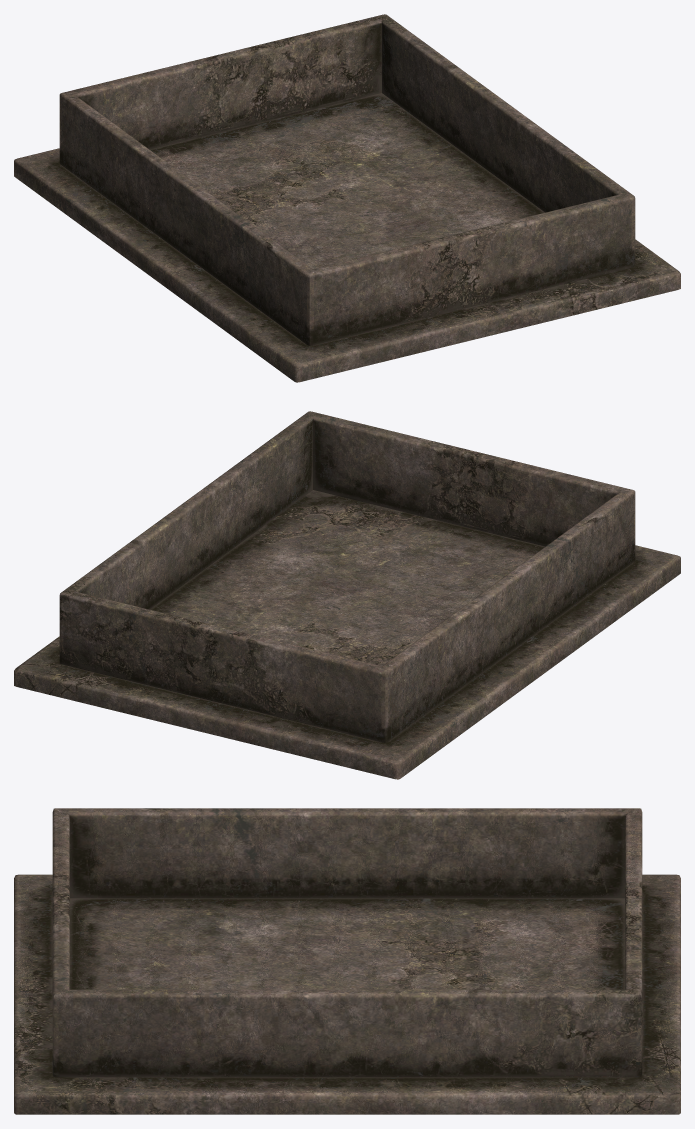
Rendered from SM_tombstone_16.fbx.
3 renders of one model, top to bottom at view 1: azimuth 30°, elevation 25°; view 2: azimuth 150°, elevation 25°; view 3: azimuth 270°, elevation 25°, orthographic. The views are drawn at different scales.
Parts seen in each view (by area): view 1: SM_tombstone_016; view 2: SM_tombstone_016; view 3: SM_tombstone_016.
Boxes of the visible parts, x1,y1,x2,y2 form: SM_tombstone_016: (14,14,680,382); SM_tombstone_016: (14,411,680,779); SM_tombstone_016: (14,808,680,1114).
Size of the model in its own units: 168 by 36.31 by 213.
